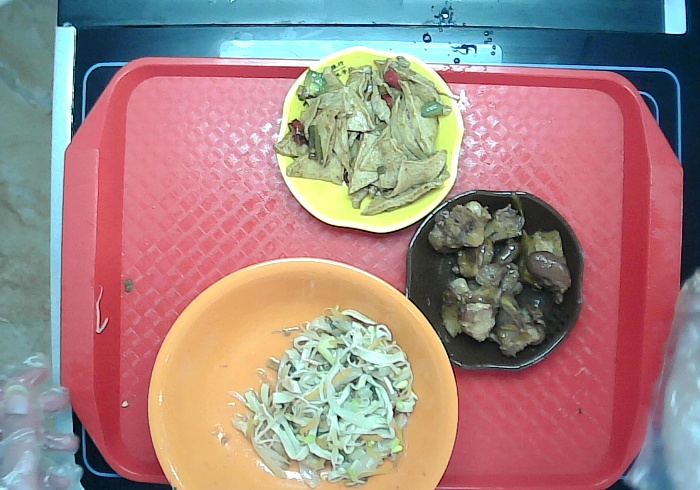YKMZ-Huang_Se_Ao_Bian_Wan: (276, 46, 465, 235)
YKMZ-Ju_Se_Tang_Wan: (146, 257, 461, 490)
YKMZ-Ka_Fei_Ao_Bian_Wan: (404, 187, 584, 373)
